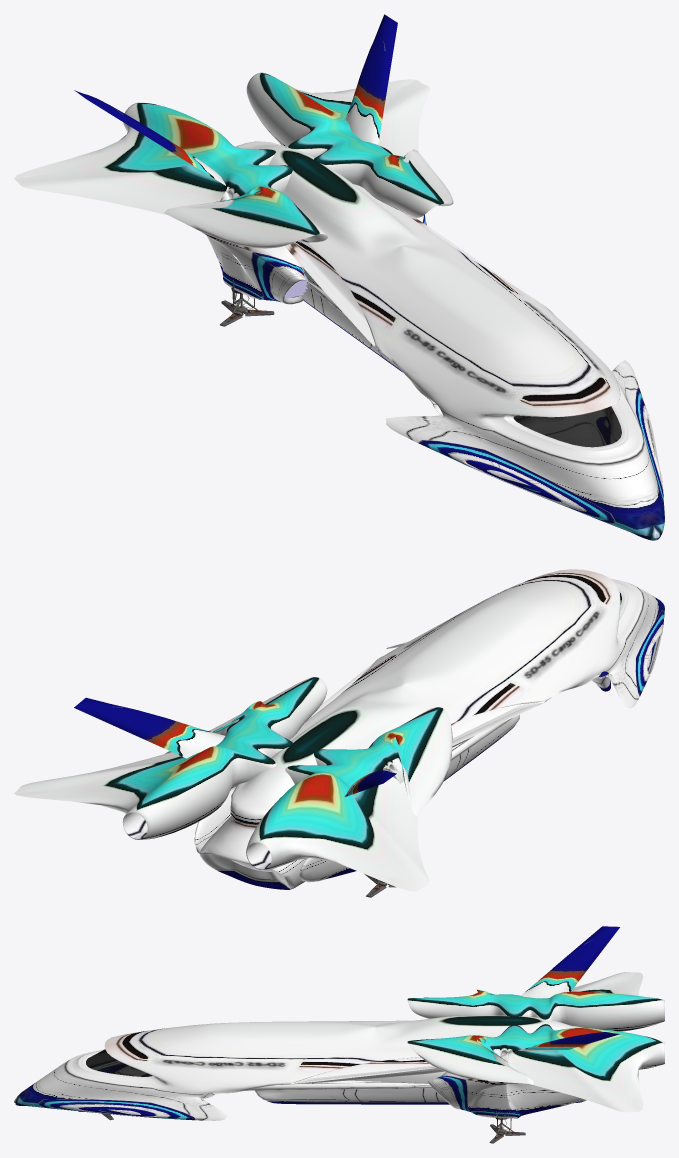
File: sd85 cargo starship landed.obj
The picture shows the model from 3 angles, top to bottom: view 1: azimuth 30°, elevation 25°; view 2: azimuth 150°, elevation 25°; view 3: azimuth 270°, elevation 25°; orthographic projection. The views are drawn at different scales.
Parts seen in each view (by area): view 1: mesh01, object 2; view 2: mesh01; view 3: mesh01, object 2.
Part boxes in pixels (bbox=[...]): mesh01: bbox=[14, 14, 664, 540]; object 2: bbox=[513, 406, 621, 447]; mesh01: bbox=[14, 569, 664, 897]; mesh01: bbox=[14, 926, 664, 1143]; object 2: bbox=[86, 1049, 152, 1076].
Size of the model in its own units: 263 by 113 by 514.
